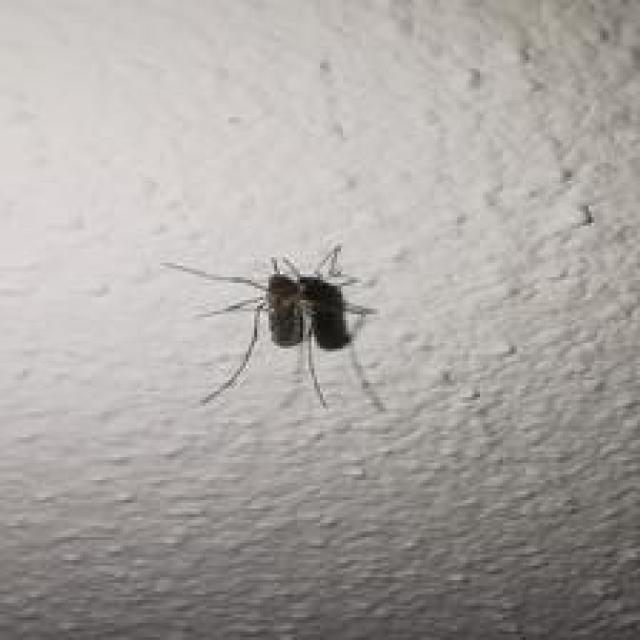Culex: (160, 243, 389, 414)
